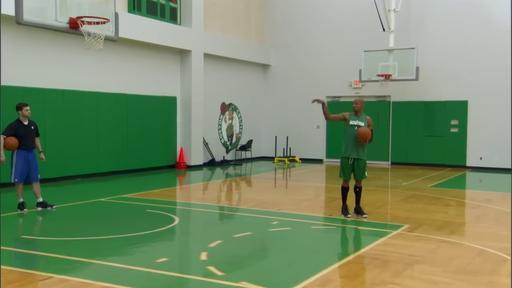ball: (356, 127, 372, 140), (10, 136, 18, 150)
human: (312, 99, 373, 219), (10, 102, 54, 212)
rim: (69, 15, 111, 48), (376, 74, 390, 86)
